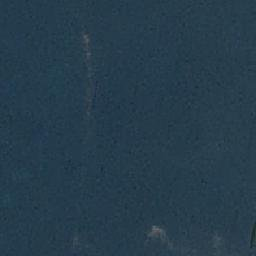debris: (145, 224, 166, 239), (82, 36, 89, 73)
